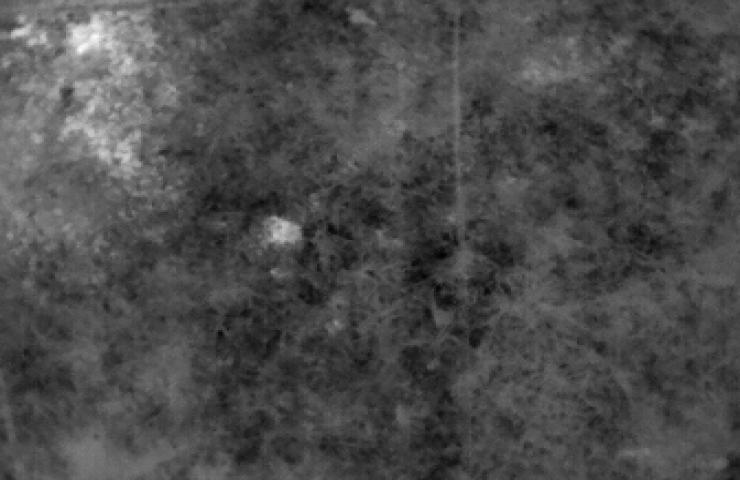landmines: (265, 214, 304, 249)
